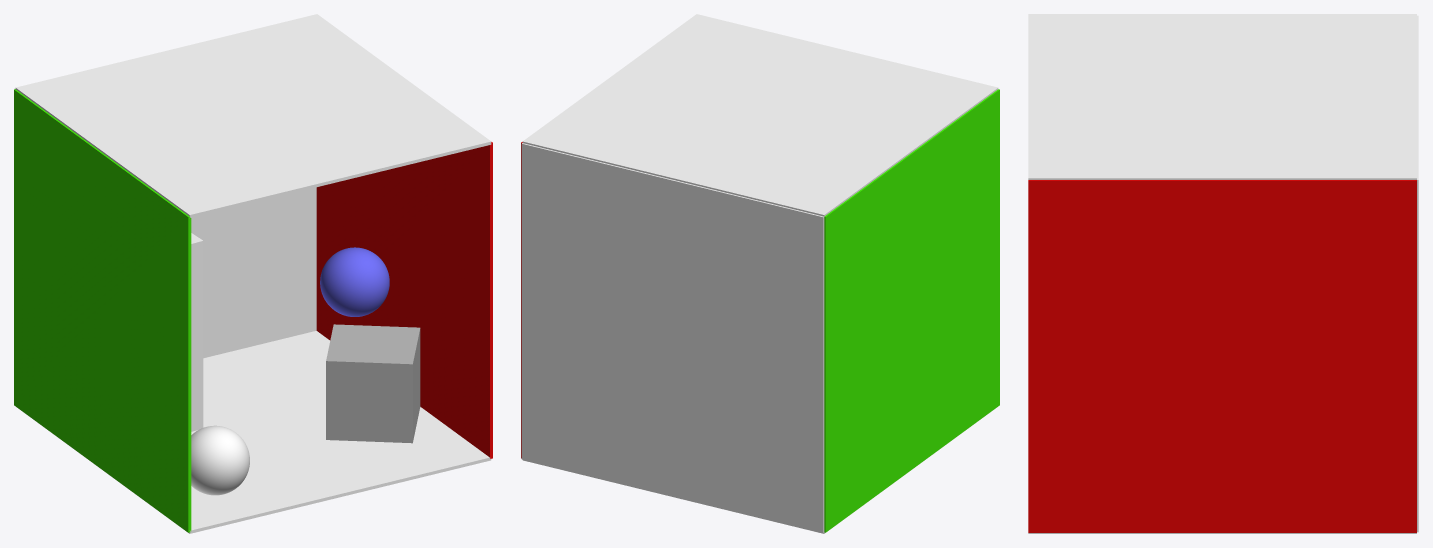
The model's file is cornellBox.gltf.
3 views of the same model, side by side, from view 1: azimuth 30°, elevation 25°; view 2: azimuth 150°, elevation 25°; view 3: azimuth 270°, elevation 25° (orthographic). The views are drawn at different scales.
Visible parts, largest first — view 1: cube_instance_5, cube_instance_3, cube_instance_6, cube_instance_2, cube_instance, cube_instance_14, sphere_instance, sphere_instance_22, cube_instance_16; view 2: cube_instance, cube_instance_5, cube_instance_3; view 3: cube_instance_6, cube_instance_3, cube_instance.
Boxes of the visible parts, x1=… form: cube_instance_5: x1=14, y1=89, x2=191, y2=532; cube_instance_3: x1=15, y1=14, x2=491, y2=217; cube_instance_6: x1=316, y1=142, x2=492, y2=458; cube_instance_2: x1=21, y1=331, x2=491, y2=533; cube_instance: x1=15, y1=88, x2=316, y2=358; cube_instance_14: x1=326, y1=324, x2=420, y2=443; sphere_instance: x1=320, y1=247, x2=389, y2=316; sphere_instance_22: x1=191, y1=425, x2=249, y2=495; cube_instance_16: x1=191, y1=233, x2=203, y2=431; cube_instance: x1=521, y1=143, x2=824, y2=532; cube_instance_5: x1=824, y1=89, x2=999, y2=532; cube_instance_3: x1=522, y1=14, x2=998, y2=216; cube_instance_6: x1=1028, y1=180, x2=1416, y2=532; cube_instance_3: x1=1028, y1=14, x2=1416, y2=179; cube_instance: x1=1417, y1=15, x2=1418, y2=532.
Size of the model in its own units: 10.1 by 10.1 by 10.05.
